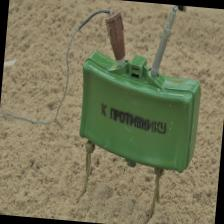MOH-50: (60, 44, 212, 183)
